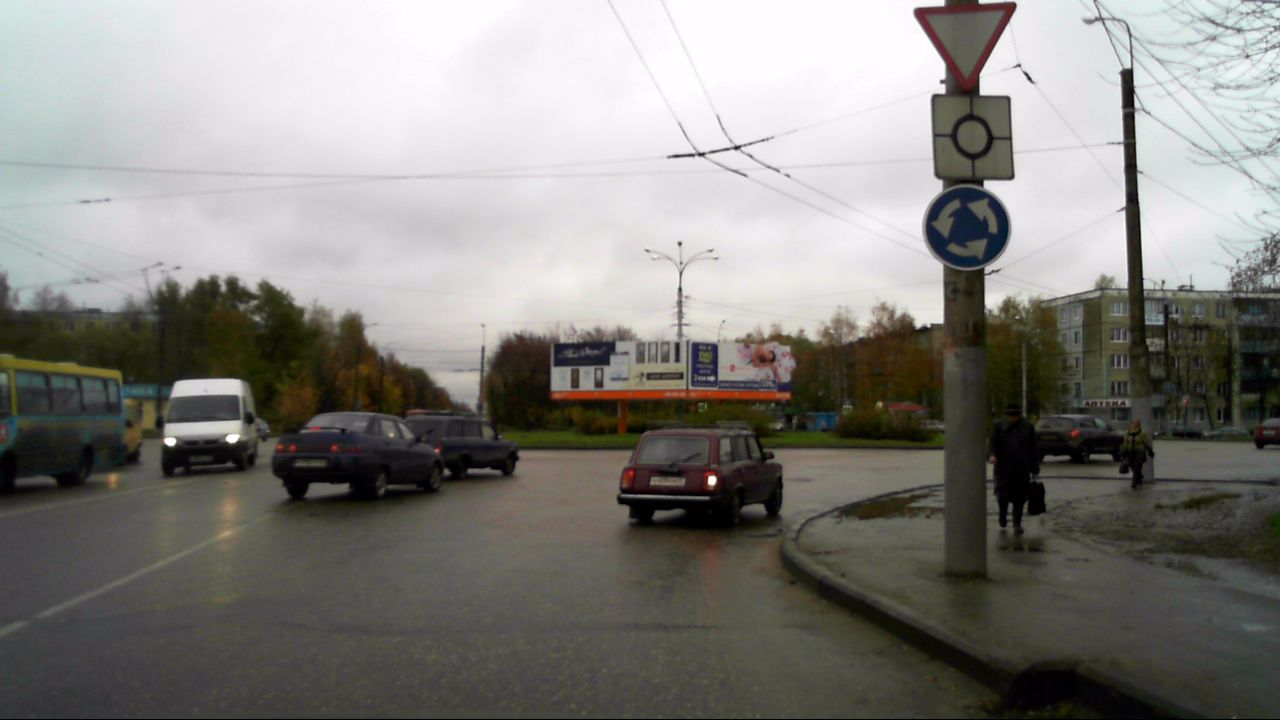Round-About: (923, 185, 1015, 276)
